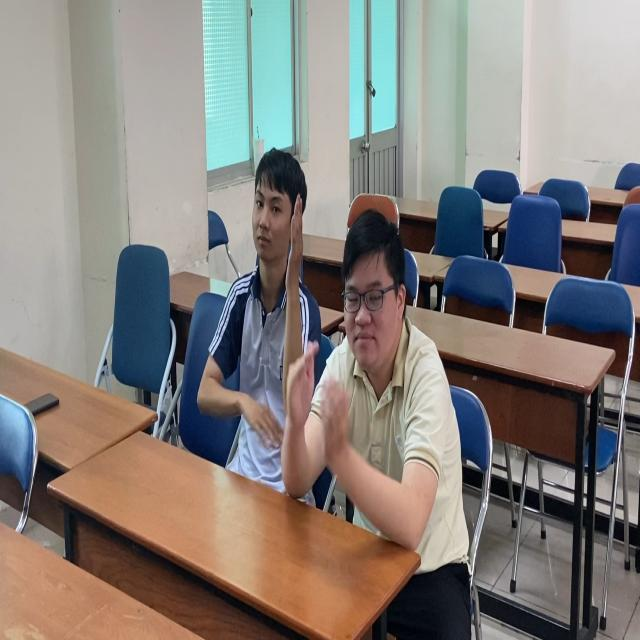raise_hand: (194, 123, 311, 495)
